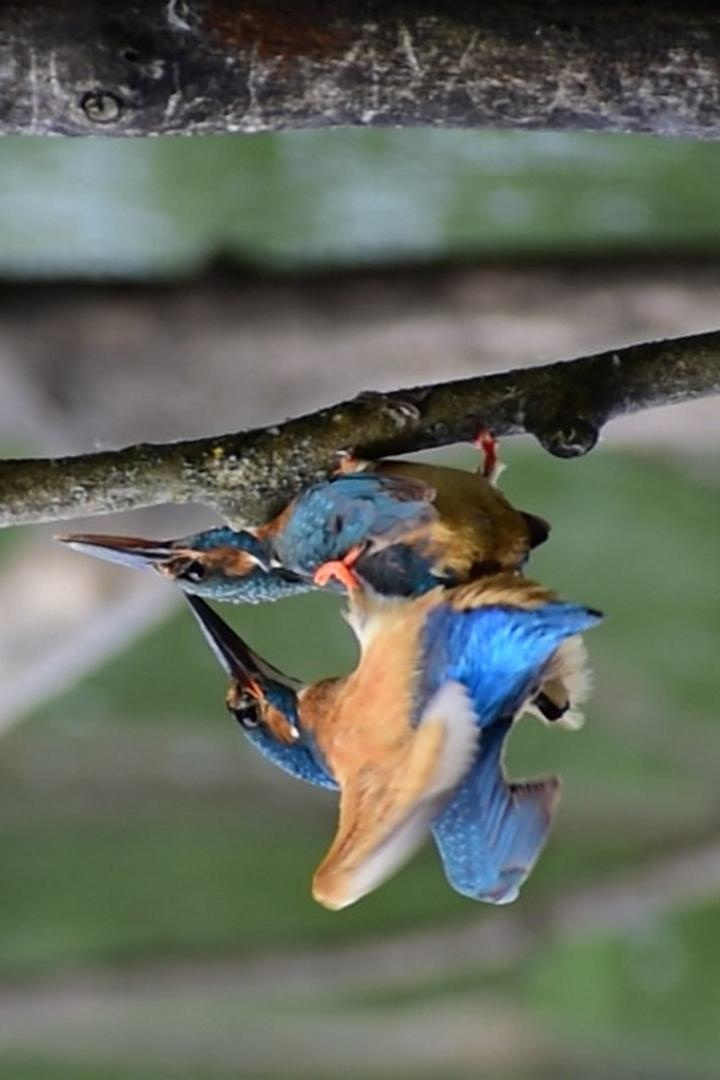kingfisher: (187, 593, 602, 942), (66, 439, 578, 615)
